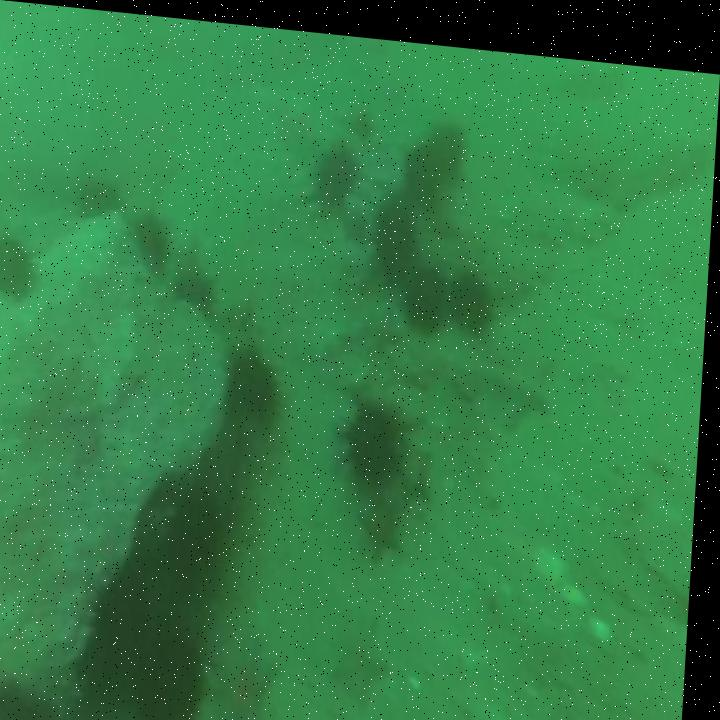echinus: (147, 628, 212, 720), (102, 564, 156, 666), (175, 480, 228, 582), (233, 343, 282, 424), (354, 393, 404, 470), (377, 186, 418, 278), (314, 131, 360, 204), (409, 259, 448, 320), (453, 262, 493, 317), (433, 111, 467, 175), (0, 237, 35, 299), (402, 131, 437, 191), (137, 208, 169, 271), (180, 260, 215, 305), (83, 177, 117, 218)
starfish: (221, 623, 283, 720), (339, 610, 392, 696), (364, 481, 410, 552)
